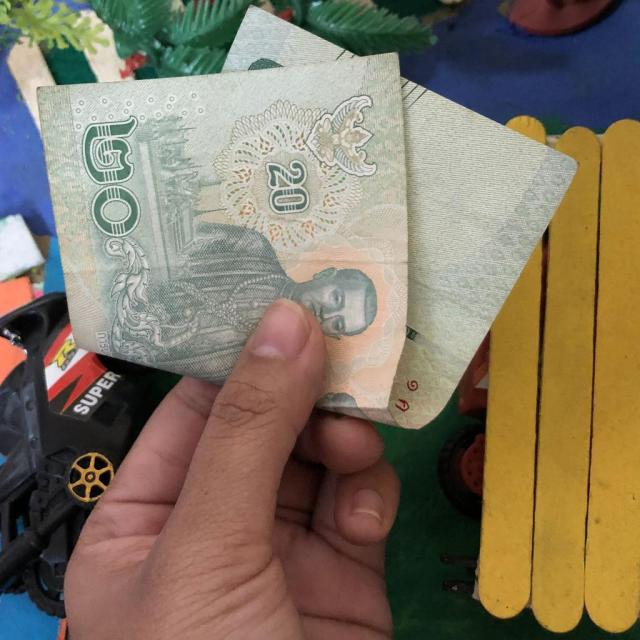THAI20: (31, 6, 576, 431)
